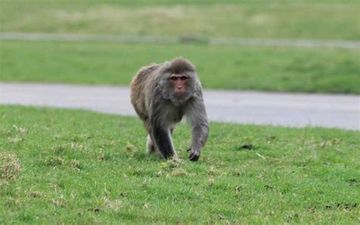monkey: (102, 33, 252, 155)
